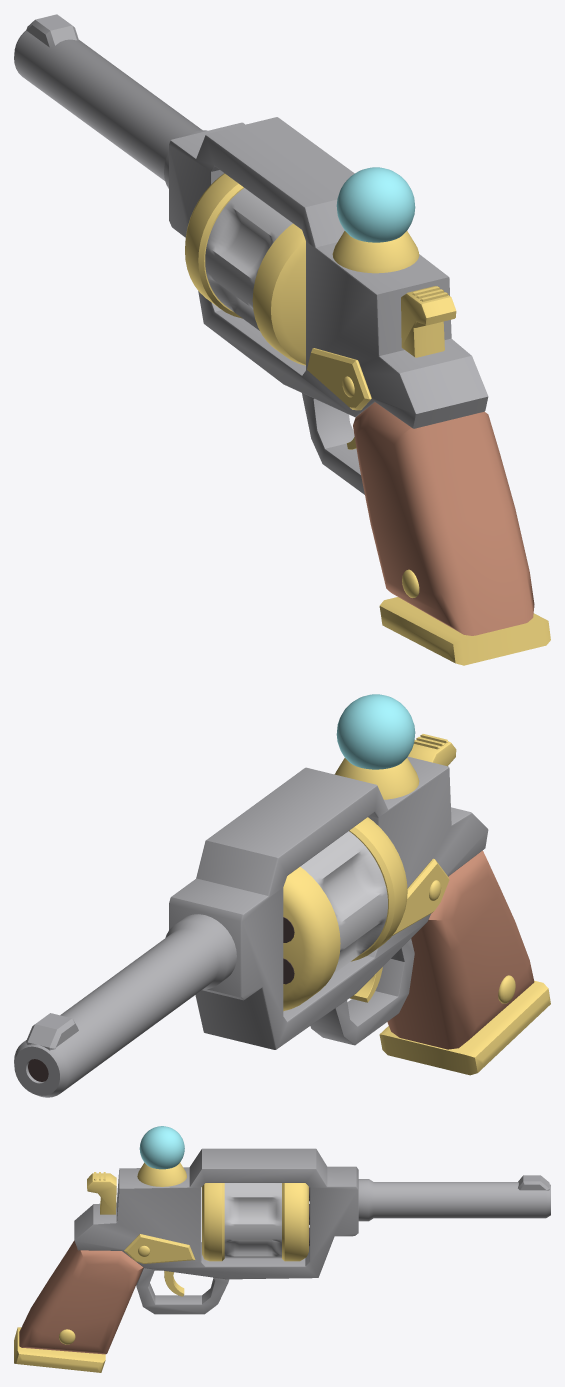
File: weapon_pistol.glb
3 renders of one model, top to bottom at view 1: azimuth 30°, elevation 25°; view 2: azimuth 150°, elevation 25°; view 3: azimuth 270°, elevation 25°, orthographic. The views are drawn at different scales.
Parts seen in each view (by area): view 1: Pistol_Frame, Pistol_Grip, Pistol_Barrel, Pistol_CylBand, Pistol_Cylinder, Pistol_Butt, Pistol_Gem, Pistol_Guard, Pistol_Hammer, Pistol_GemMount, Pistol_Plate, Pistol_FrontSight; view 2: Pistol_Frame, Pistol_Grip, Pistol_Barrel, Pistol_CylBand, Pistol_Cylinder, Pistol_Butt, Pistol_Gem, Pistol_Guard, Pistol_GemMount, Pistol_Plate, Pistol_FrontSight, Pistol_Hammer (+1 smaller); view 3: Pistol_Frame, Pistol_Grip, Pistol_Barrel, Pistol_Cylinder, Pistol_CylBand, Pistol_Guard, Pistol_Butt, Pistol_Gem, Pistol_Plate, Pistol_Hammer, Pistol_GemMount, Pistol_FrontSight (+1 smaller).
Part boxes in pixels (bbox=[...]): Pistol_Frame: bbox=[169, 117, 488, 428]; Pistol_Grip: bbox=[353, 402, 534, 635]; Pistol_Barrel: bbox=[14, 30, 207, 188]; Pistol_CylBand: bbox=[185, 173, 305, 365]; Pistol_Cylinder: bbox=[205, 188, 292, 330]; Pistol_Butt: bbox=[379, 597, 550, 665]; Pistol_Gem: bbox=[336, 167, 415, 242]; Pistol_Guard: bbox=[302, 393, 364, 494]; Pistol_Hammer: bbox=[401, 286, 456, 357]; Pistol_GemMount: bbox=[332, 231, 419, 273]; Pistol_Plate: bbox=[307, 348, 371, 410]; Pistol_FrontSight: bbox=[26, 14, 78, 47]; Pistol_Frame: bbox=[169, 756, 488, 1049]; Pistol_Grip: bbox=[387, 850, 534, 1049]; Pistol_Barrel: bbox=[14, 914, 236, 1097]; Pistol_CylBand: bbox=[283, 817, 407, 1011]; Pistol_Cylinder: bbox=[300, 831, 387, 973]; Pistol_Butt: bbox=[379, 980, 550, 1075]; Pistol_Gem: bbox=[336, 694, 415, 769]; Pistol_Guard: bbox=[310, 938, 414, 1045]; Pistol_GemMount: bbox=[334, 758, 419, 799]; Pistol_Plate: bbox=[392, 858, 449, 935]; Pistol_FrontSight: bbox=[26, 1013, 78, 1050]; Pistol_Hammer: bbox=[408, 736, 456, 766]; Pistol_Frame: bbox=[74, 1148, 358, 1279]; Pistol_Grip: bbox=[19, 1240, 143, 1354]; Pistol_Barrel: bbox=[358, 1179, 550, 1221]; Pistol_Cylinder: bbox=[224, 1183, 281, 1258]; Pistol_CylBand: bbox=[202, 1183, 308, 1261]; Pistol_Guard: bbox=[136, 1268, 229, 1314]; Pistol_Butt: bbox=[14, 1327, 105, 1372]; Pistol_Gem: bbox=[139, 1126, 184, 1169]; Pistol_Plate: bbox=[124, 1234, 195, 1263]; Pistol_Hammer: bbox=[87, 1173, 116, 1214]; Pistol_GemMount: bbox=[137, 1162, 186, 1186]; Pistol_FrontSight: bbox=[518, 1175, 549, 1190].
Size of the model in its own units: 0.0776 by 0.2118 by 0.4422.
